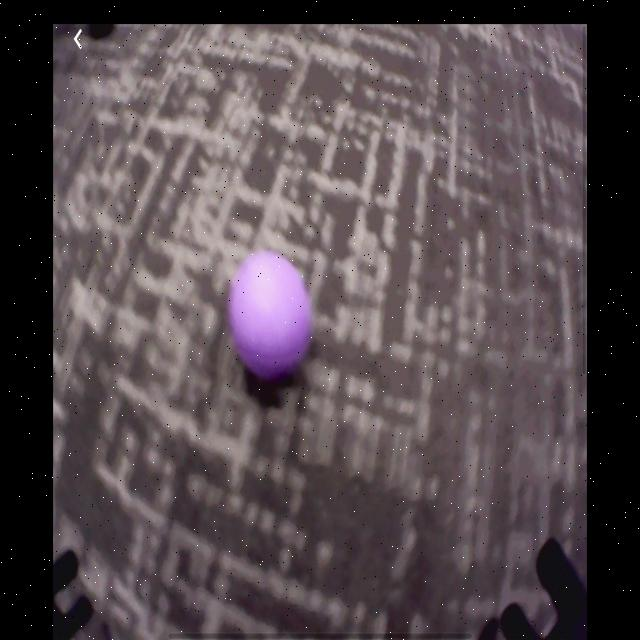ball: (228, 251, 314, 383)
